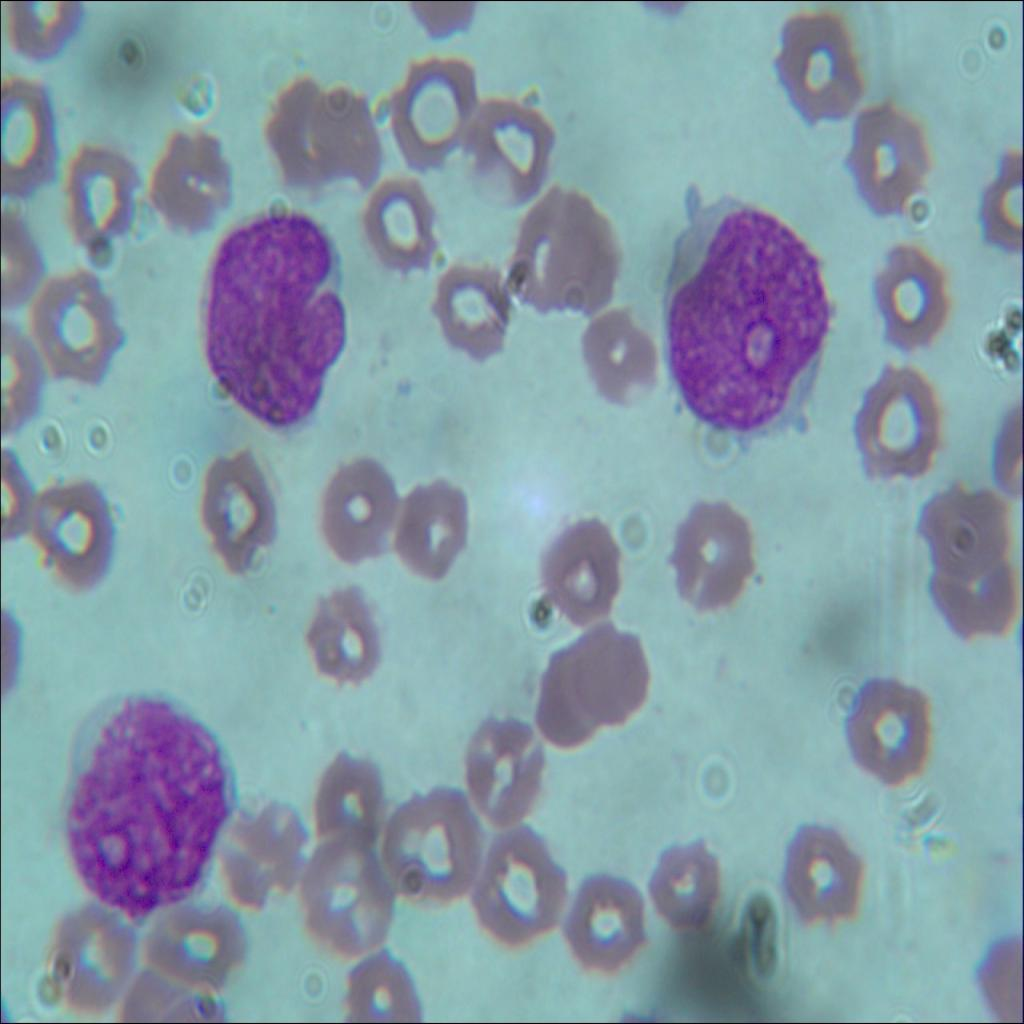Eritrosit: (388, 788, 498, 909), (298, 826, 402, 947), (473, 828, 573, 950), (30, 263, 129, 382), (570, 299, 670, 415), (846, 368, 946, 482), (771, 4, 866, 122), (151, 111, 236, 241), (516, 204, 624, 305), (849, 668, 943, 784), (462, 711, 551, 832), (62, 130, 146, 257), (668, 497, 754, 621), (922, 545, 1023, 649), (779, 824, 871, 938), (34, 479, 122, 598), (219, 798, 308, 915), (138, 890, 246, 984), (866, 234, 949, 354), (550, 878, 656, 971), (639, 838, 741, 932), (208, 438, 281, 568), (308, 740, 393, 850), (462, 94, 550, 200), (311, 88, 395, 198), (38, 900, 133, 995), (530, 511, 616, 614), (374, 172, 455, 280), (426, 254, 512, 355), (388, 58, 476, 156), (846, 104, 926, 211), (0, 77, 63, 211), (316, 452, 396, 552), (575, 610, 649, 718), (301, 589, 386, 678), (528, 641, 598, 748), (920, 491, 1006, 575), (266, 72, 331, 180), (342, 942, 424, 1023), (384, 477, 459, 562)
Limfoblast: (646, 183, 838, 445), (43, 690, 244, 904), (199, 204, 348, 438)
